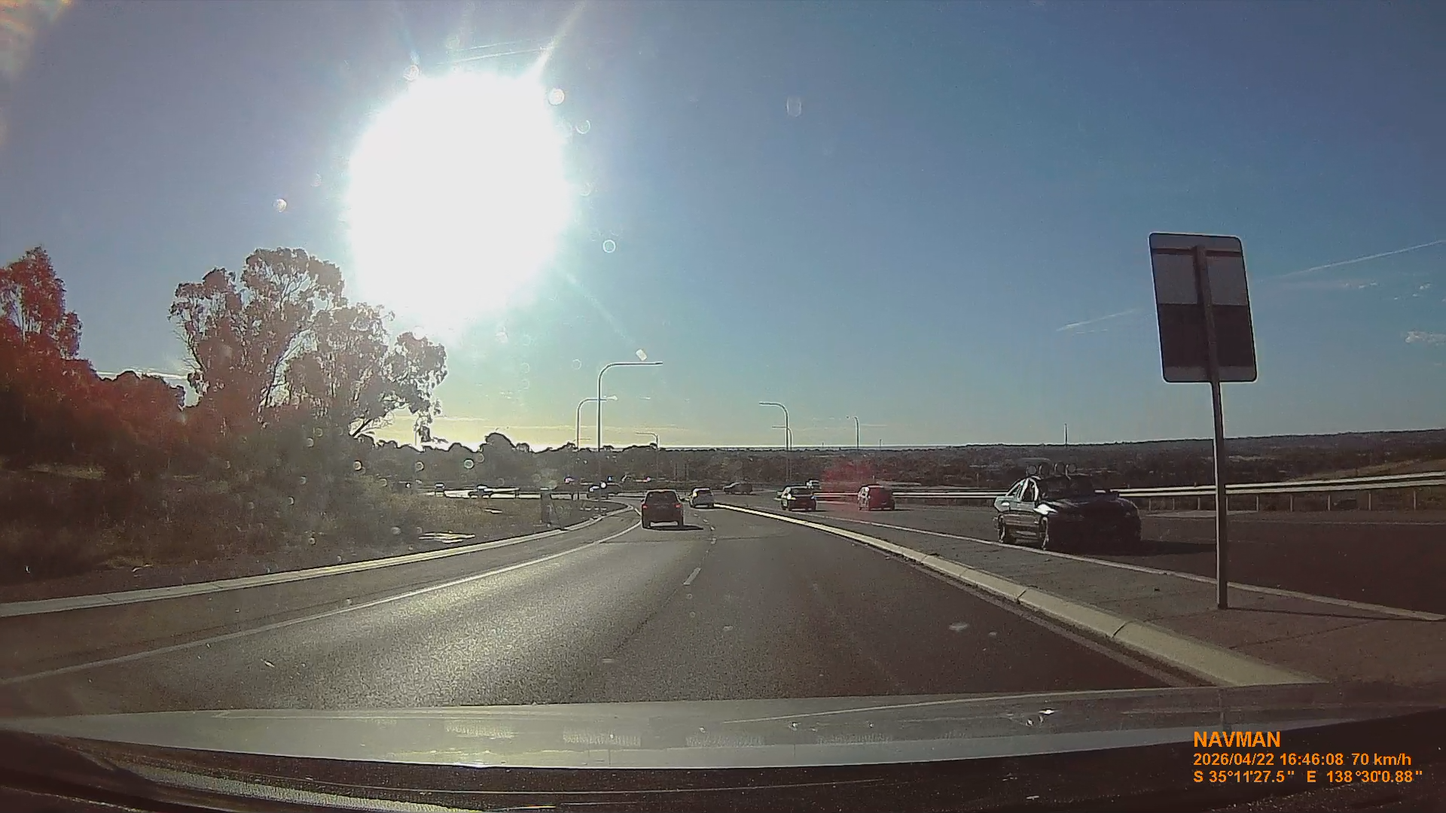road barriers: (1230, 472, 1445, 513)
